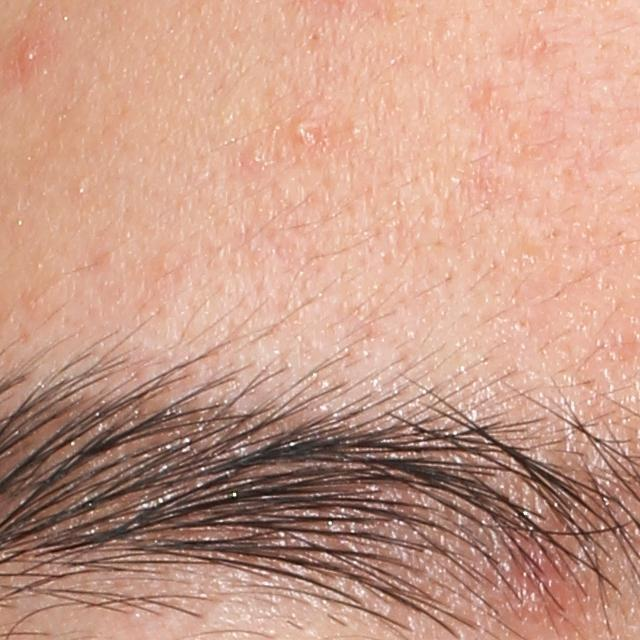comedo: (340, 118, 364, 142), (435, 18, 456, 42), (72, 177, 89, 197)
papule: (514, 543, 570, 605), (21, 43, 42, 68)
pustule: (292, 117, 315, 141)
